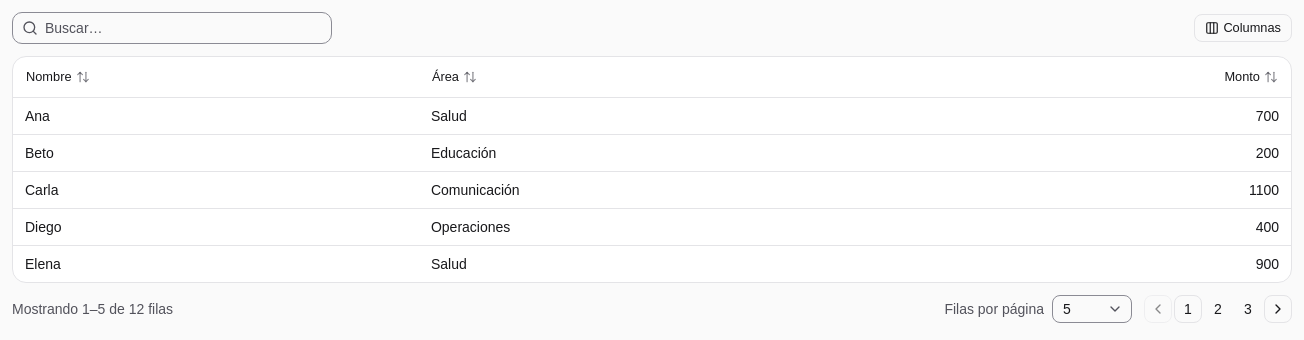
Test case: DataTable › ordena de forma ascendente y descendente desde el encabezado
This screenshot has width=1304, height=340.
What coordinates should you click on to do the following:
click the button "Monto"
I would click on:
 (1242, 76)
Its box is [950,61,1287,93].
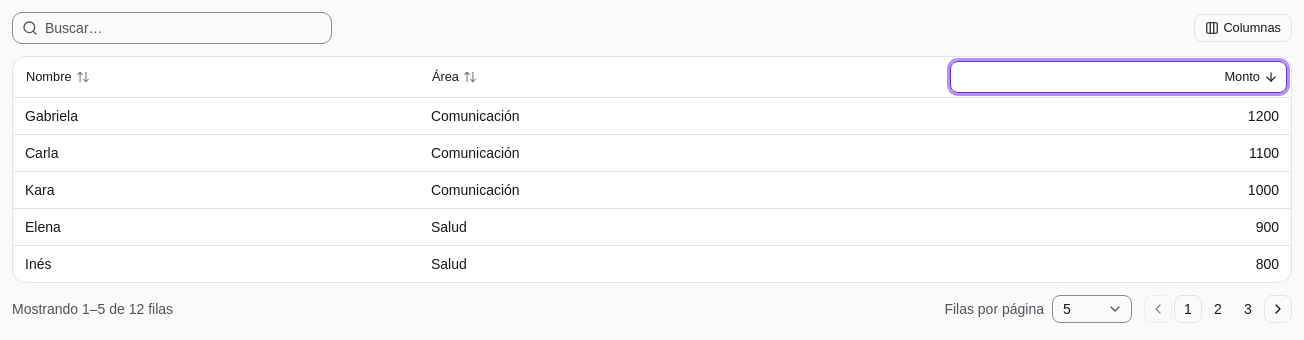
Result: the text "Gabriela" is shown at [13,98,419,134]
What coordinates should you click on to do the following:
click the button "Monto"
I would click on:
 (1242, 76)
Its box is [950,61,1287,93].
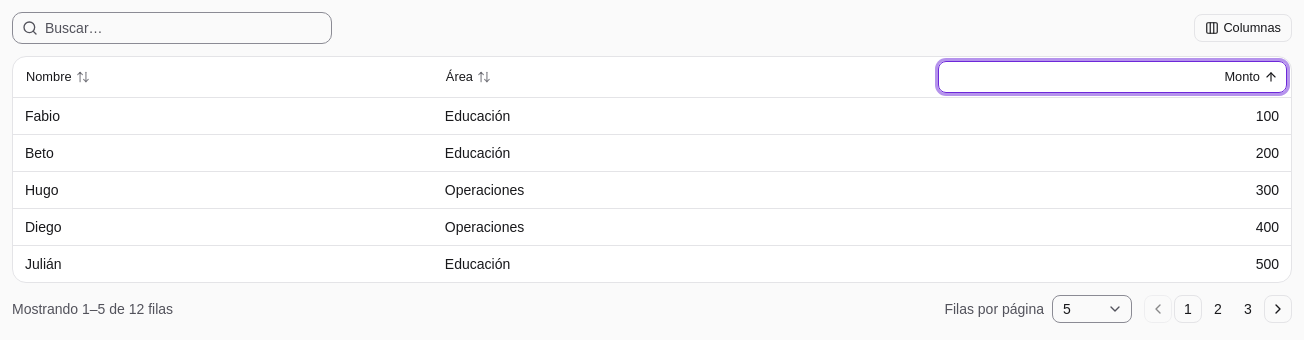
Result: the text "Fabio" is shown at [13,98,433,134]
